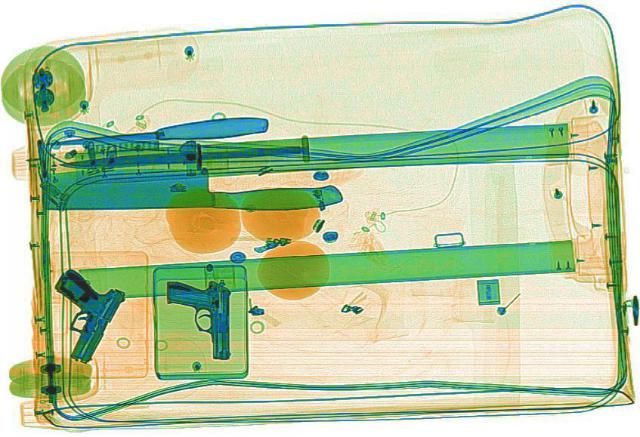Gun: (18, 265, 130, 363), (163, 275, 233, 359)
Knife: (37, 161, 341, 217), (43, 113, 269, 152), (57, 142, 300, 170)
